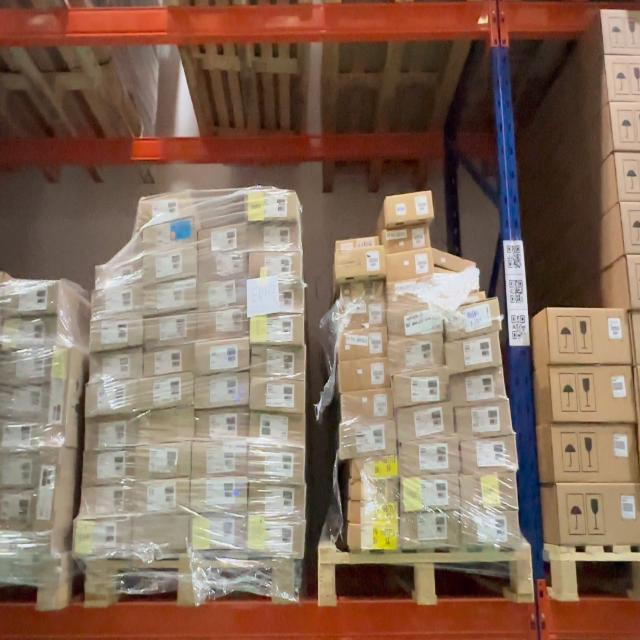box: (550, 422, 640, 484), (547, 363, 635, 424), (545, 305, 631, 363), (446, 329, 502, 373), (444, 299, 502, 341), (459, 434, 519, 474), (460, 508, 520, 548), (34, 451, 59, 547), (401, 510, 462, 549), (400, 438, 460, 477), (399, 473, 460, 511), (46, 349, 70, 444), (391, 366, 449, 405), (338, 420, 396, 459), (248, 513, 306, 552), (247, 278, 303, 318), (398, 400, 455, 439), (455, 400, 513, 438), (461, 473, 519, 511), (135, 479, 191, 518), (450, 368, 508, 405), (74, 520, 130, 558), (85, 381, 142, 418), (249, 444, 304, 482), (90, 314, 143, 352), (92, 283, 146, 320), (194, 371, 249, 406), (191, 476, 246, 511), (248, 411, 306, 444), (196, 336, 249, 372), (390, 335, 446, 369), (144, 278, 198, 313), (83, 450, 137, 485), (193, 515, 245, 551), (253, 343, 306, 378), (251, 376, 304, 411), (137, 442, 190, 477), (143, 249, 199, 282), (193, 439, 245, 474), (142, 373, 194, 408), (388, 302, 443, 335), (139, 409, 194, 442), (249, 483, 305, 515), (91, 348, 142, 383), (81, 486, 135, 519), (134, 517, 187, 550), (137, 191, 193, 222), (338, 358, 389, 392), (335, 248, 386, 282), (340, 325, 389, 360), (341, 389, 391, 423), (143, 314, 196, 346), (386, 248, 435, 282), (335, 303, 387, 335), (85, 420, 135, 452), (252, 312, 303, 342), (143, 348, 197, 376), (250, 219, 300, 248), (144, 219, 194, 248), (346, 523, 399, 550), (385, 192, 434, 221), (95, 257, 141, 287), (387, 277, 439, 303), (200, 224, 246, 253), (439, 282, 488, 309), (384, 225, 431, 253), (198, 282, 245, 310), (197, 411, 248, 436), (351, 453, 398, 480), (247, 188, 293, 215), (347, 500, 397, 524), (250, 253, 298, 278), (199, 252, 248, 276), (198, 311, 245, 335), (341, 283, 387, 304), (350, 479, 398, 499), (432, 249, 480, 268), (338, 238, 382, 250)
